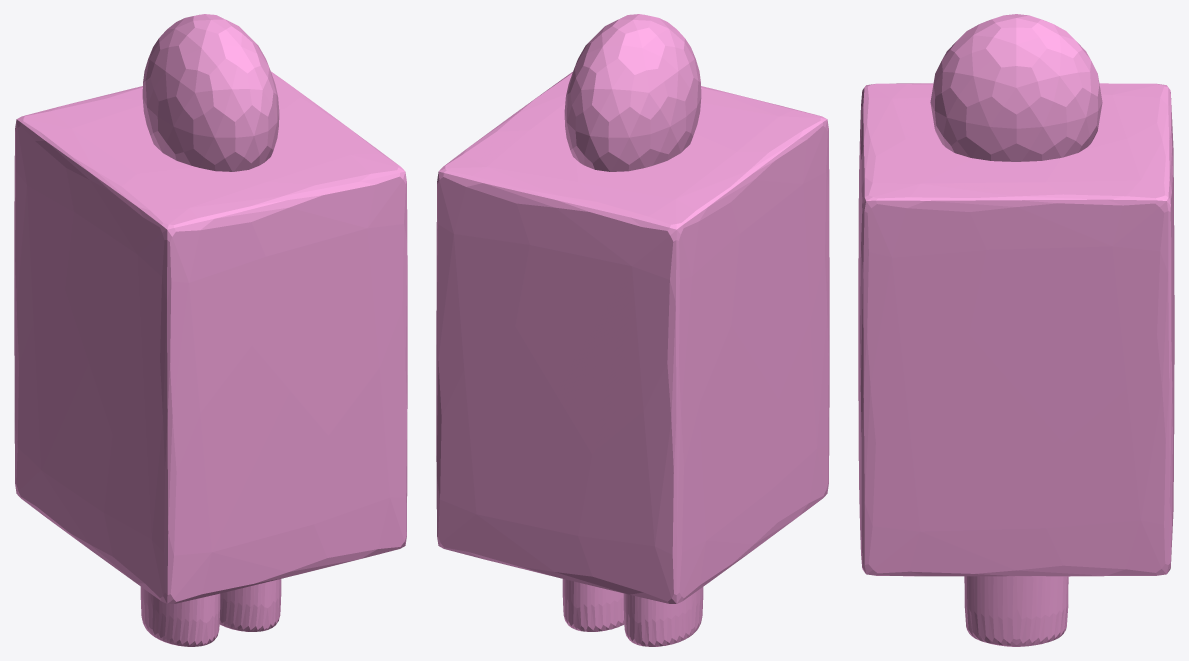
File: adelynn_variant1.glb
The picture shows the model from 3 angles, left to right: view 1: azimuth 30°, elevation 25°; view 2: azimuth 150°, elevation 25°; view 3: azimuth 270°, elevation 25°; orthographic projection.
Parts seen in each view (by area): view 1: adelynn; view 2: adelynn; view 3: adelynn.
Part boxes in pixels (x1,y1,x2,y2): adelynn: (14,14,407,646); adelynn: (436,14,829,646); adelynn: (858,14,1174,646).
Bounding box in the file's own units: 0.7995 × 1.89 × 0.8989.
